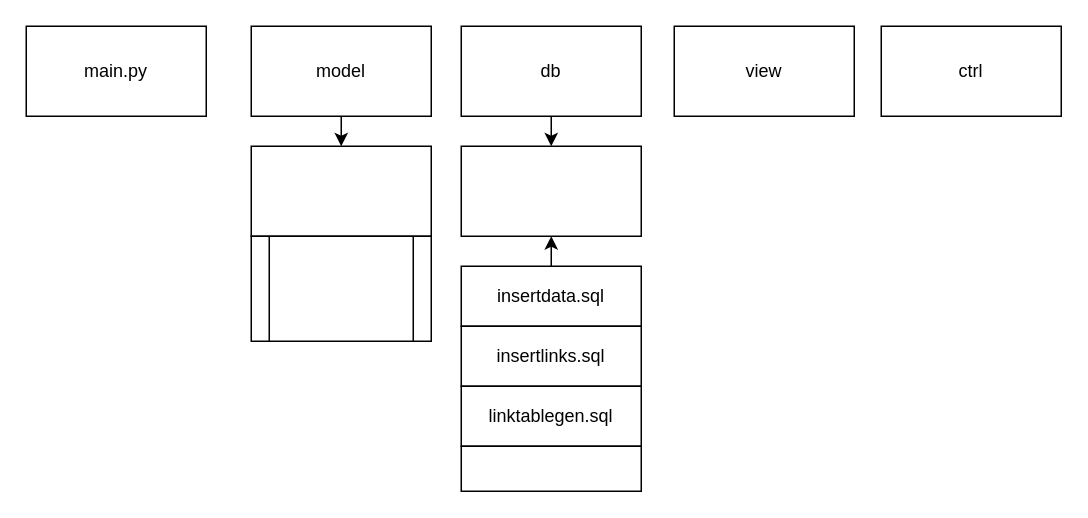
The diagram is 1088 pixels wide and 518 high, and some of its shapes have lost their labels. Each missing label, with the centre of its shape:
classes: bike part tool: the point at 340,288
db.sqlite3: the point at 550,190
model.py: the point at 340,190
tablegen.sql: the point at 550,468
